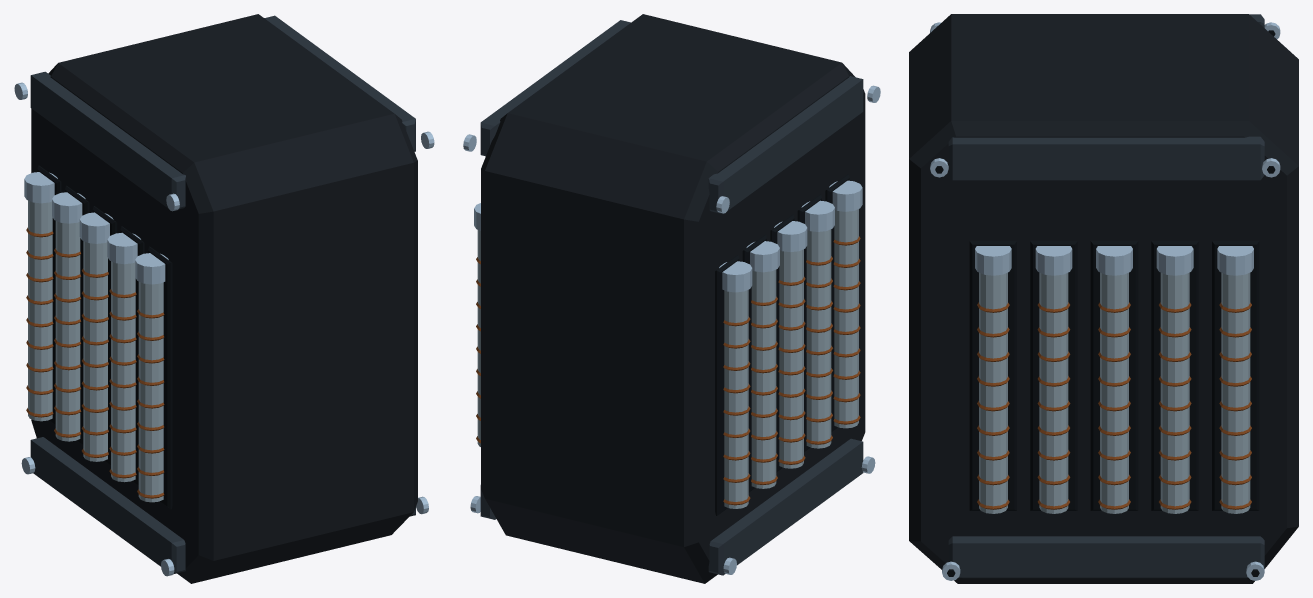
The model's file is NailgunBlue_Evolved_Magazine.obj.
3 renders of one model, left to right at view 1: azimuth 30°, elevation 25°; view 2: azimuth 150°, elevation 25°; view 3: azimuth 270°, elevation 25°, orthographic. The views are drawn at different scales.
Parts seen in each view (by area): view 1: FrameBlack, FastenerSteel, Graphite, Rubber, Steel, Copper; view 2: FrameBlack, FastenerSteel, Graphite, Rubber, Steel, Copper; view 3: FrameBlack, FastenerSteel, Graphite, Rubber, Steel, Copper.
Boxes of the visible parts, bbox=[...] form: FrameBlack: bbox=[31, 14, 417, 583]; FastenerSteel: bbox=[28, 200, 163, 502]; Graphite: bbox=[30, 15, 415, 574]; Rubber: bbox=[37, 165, 172, 509]; Steel: bbox=[14, 82, 434, 576]; Copper: bbox=[26, 227, 164, 498]; FrameBlack: bbox=[481, 14, 865, 583]; FastenerSteel: bbox=[477, 209, 858, 508]; Graphite: bbox=[480, 20, 863, 575]; Rubber: bbox=[715, 174, 849, 515]; Steel: bbox=[463, 85, 880, 574]; Copper: bbox=[476, 236, 860, 505]; FrameBlack: bbox=[909, 14, 1298, 583]; FastenerSteel: bbox=[979, 272, 1250, 513]; Graphite: bbox=[948, 14, 1264, 577]; Rubber: bbox=[935, 30, 1275, 576]; Steel: bbox=[930, 22, 1280, 580]; Copper: bbox=[977, 302, 1251, 509].
Size of the model in its own units: 0.264 by 0.388 by 0.296.
